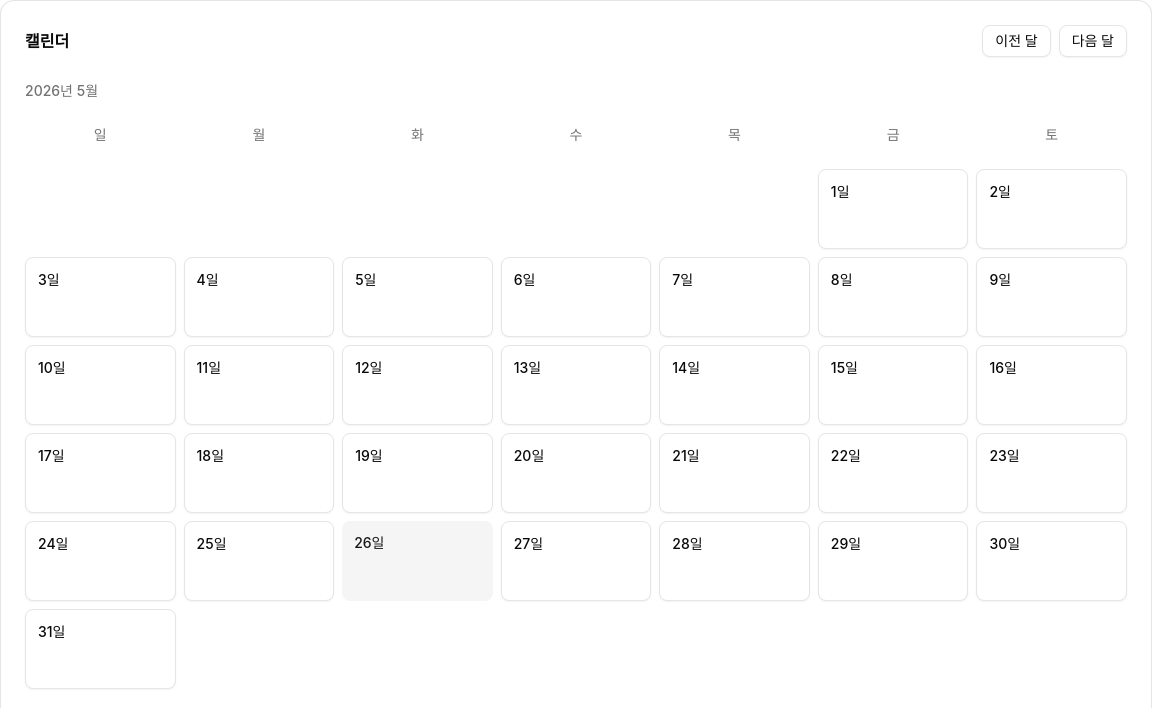
Test: CalendarPanel › keeps the selected date aligned when navigating months
Click the button "다음 달".
click(1093, 41)  # box [1059, 25, 1127, 57]
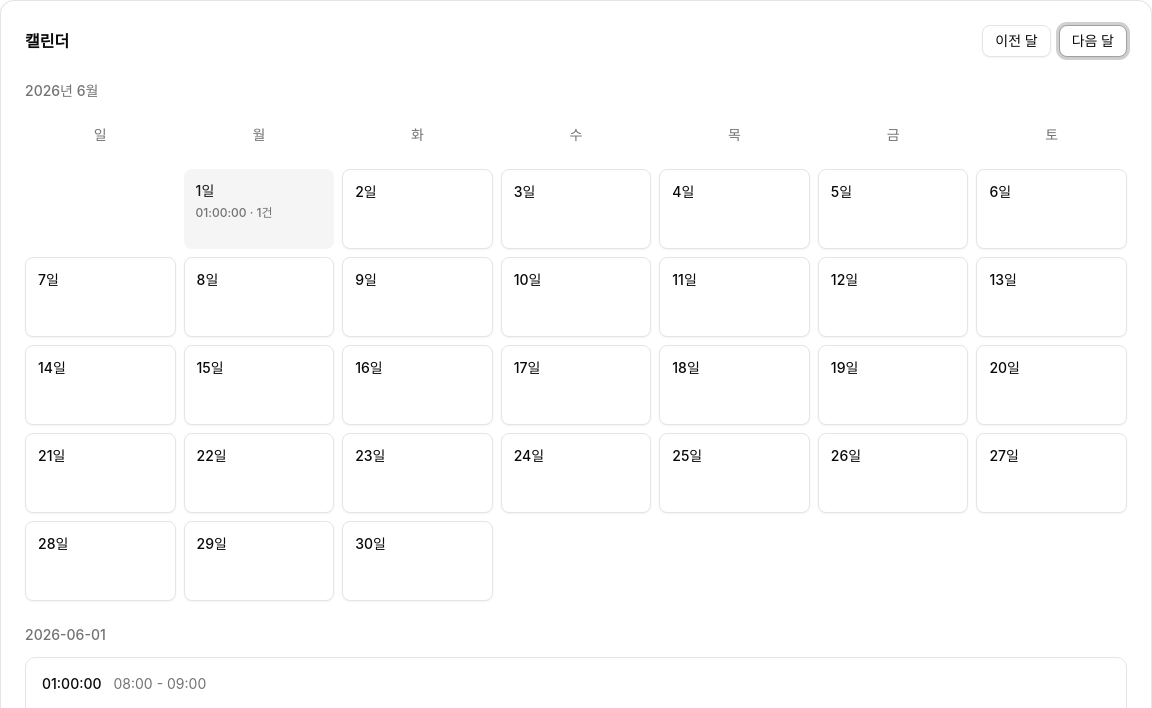
Check: the text "2026년 6월" is shown, box [25, 82, 98, 99]
Check: the text "08:00 - 09:00" is shown, box [114, 674, 206, 694]
